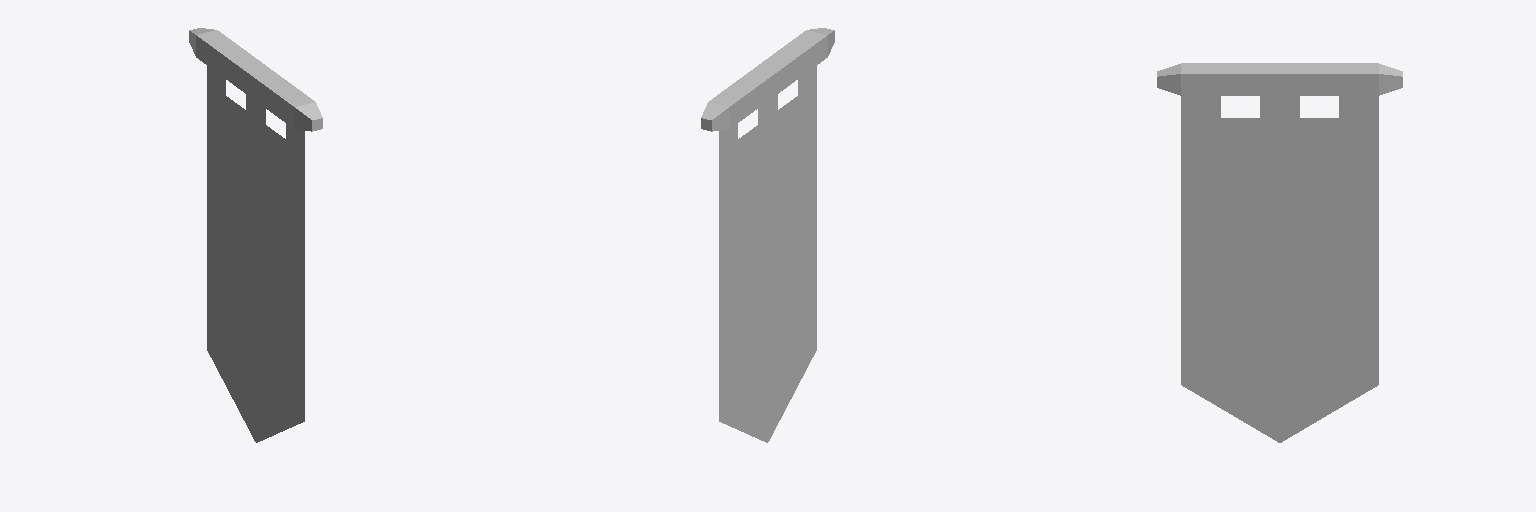
Rendered from banner-red.obj.
3 renders of one model, left to right at view 1: azimuth 30°, elevation 25°; view 2: azimuth 150°, elevation 25°; view 3: azimuth 270°, elevation 25°, orthographic.
Visible parts, largest first — view 1: banner-red; view 2: banner-red; view 3: banner-red.
Part boxes in pixels (x1,y1,x2,y2): banner-red: (189,28,322,442); banner-red: (701,28,834,442); banner-red: (1157,63,1402,442).
Size of the model in its own units: 0.05 by 0.8394 by 0.5.